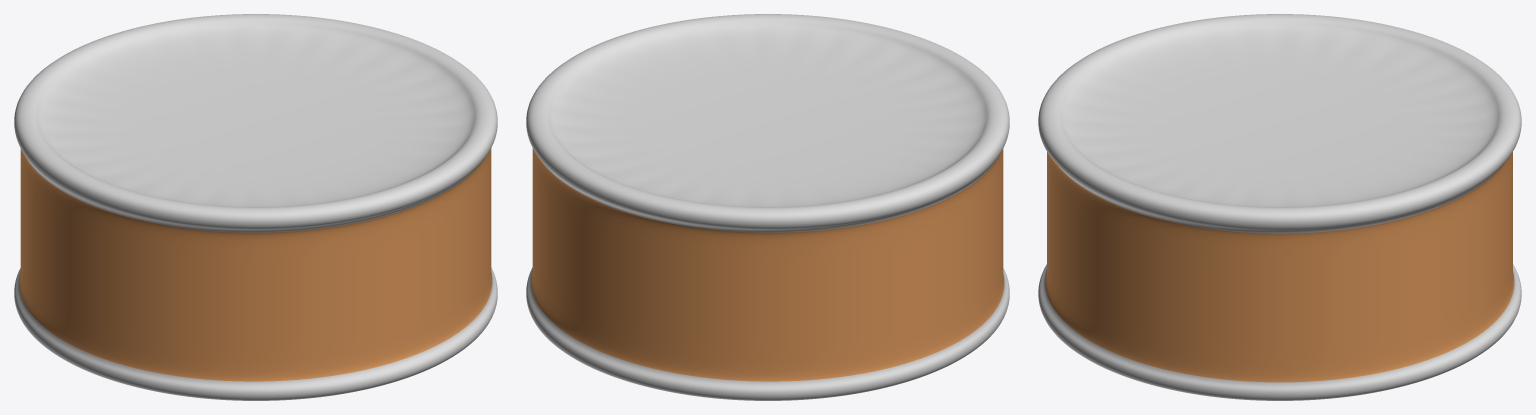
The model's file is nekokan.fbx.
3 views of the same model, side by side, from view 1: azimuth 30°, elevation 25°; view 2: azimuth 150°, elevation 25°; view 3: azimuth 270°, elevation 25° (orthographic).
Parts seen in each view (by area): view 1: 円柱; view 2: 円柱; view 3: 円柱.
Boxes of the visible parts, x1=… form: 円柱: x1=14, y1=14, x2=497, y2=400; 円柱: x1=526, y1=14, x2=1009, y2=400; 円柱: x1=1038, y1=14, x2=1521, y2=400.
Bounding box in the file's own units: 292 × 126 × 292.
